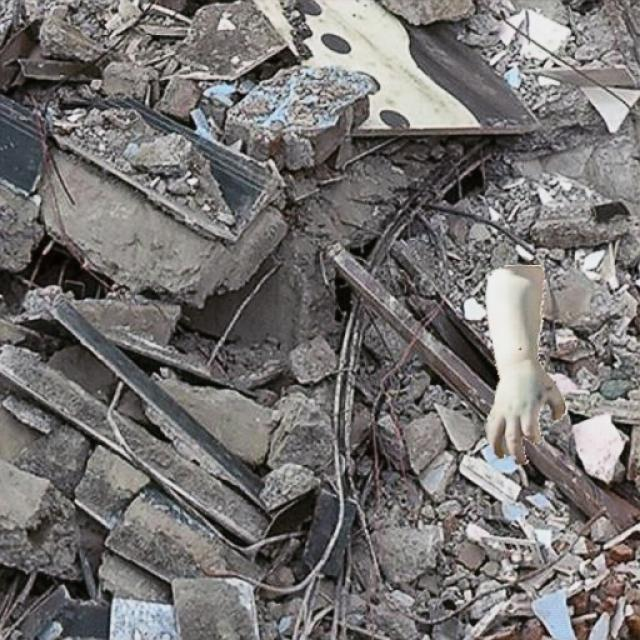Person in Rubble: (482, 265, 566, 464)
